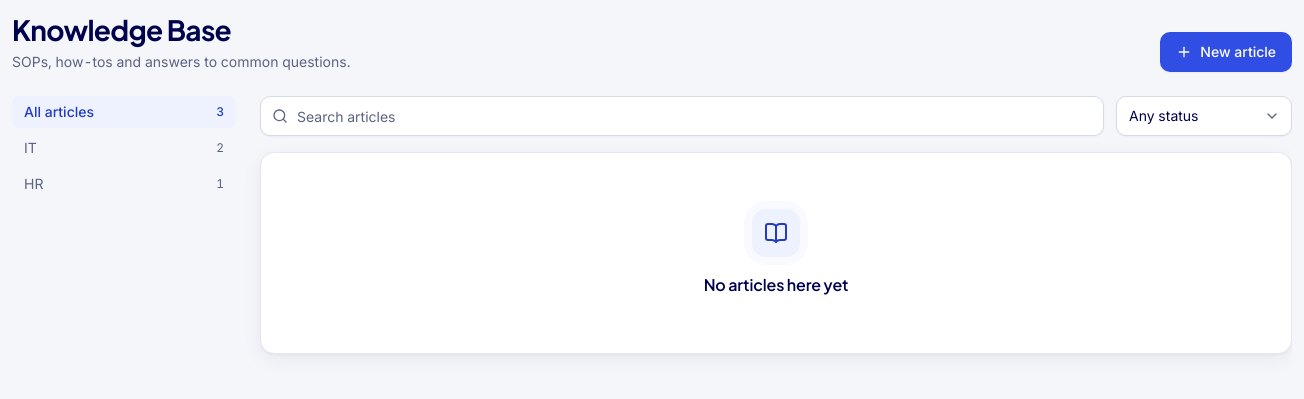
Test: KnowledgeBasePage › shows an empty state for a search with no results
Type "zzz" into the search field labelled "Search articles" at (682, 116), box [260,96,1104,136]
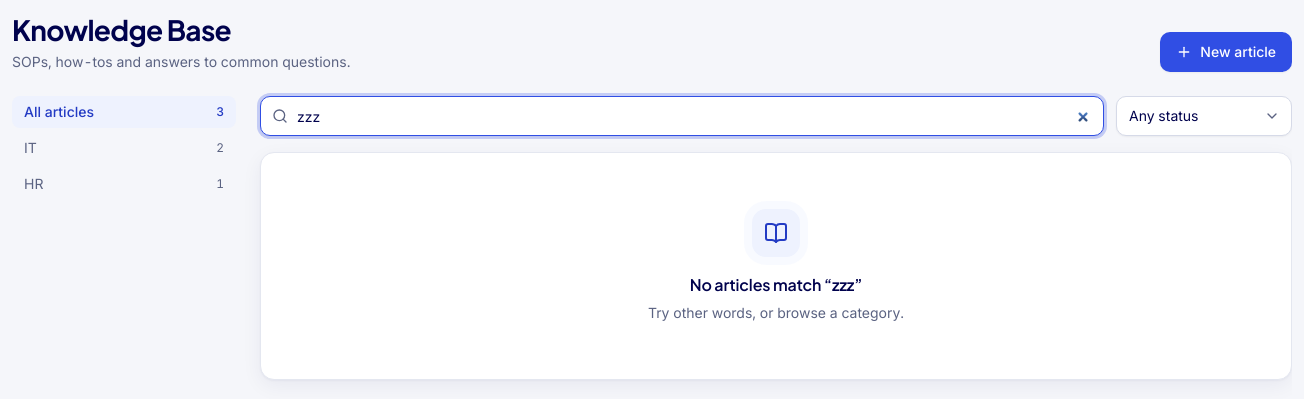
expect the heading "No articles match “zzz”" is shown: met, box [690,273,862,297]
